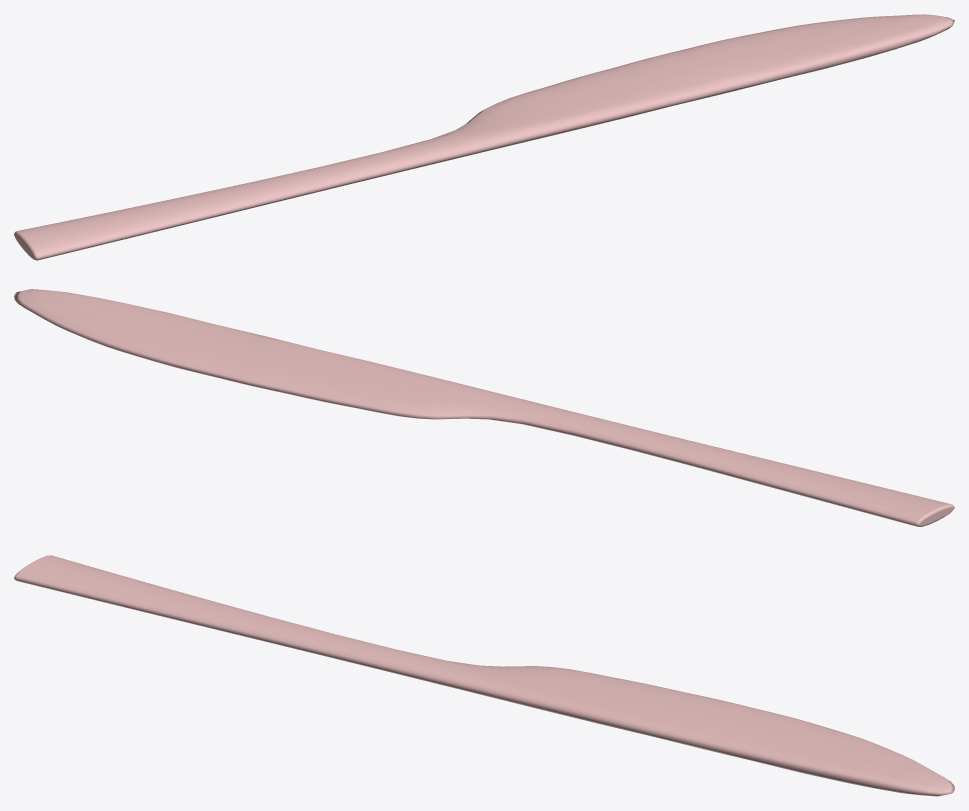
The model's file is couteau.fbx.
3 views of the same model, one above another, from view 1: azimuth 30°, elevation 25°; view 2: azimuth 150°, elevation 25°; view 3: azimuth 330°, elevation 25° (orthographic).
Parts seen in each view (by area): view 1: pCylinder1; view 2: pCylinder1; view 3: pCylinder1.
Boxes of the visible parts, x1,y1,x2,y2 form: pCylinder1: (14, 14, 954, 260); pCylinder1: (14, 289, 954, 526); pCylinder1: (14, 555, 954, 796).
Bounding box in the file's own units: 7.28 × 0.1029 × 0.6981.
